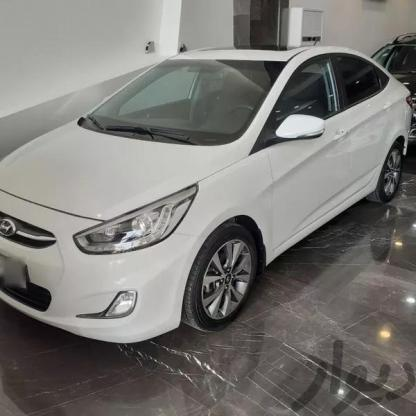Car: (0, 48, 416, 337)
